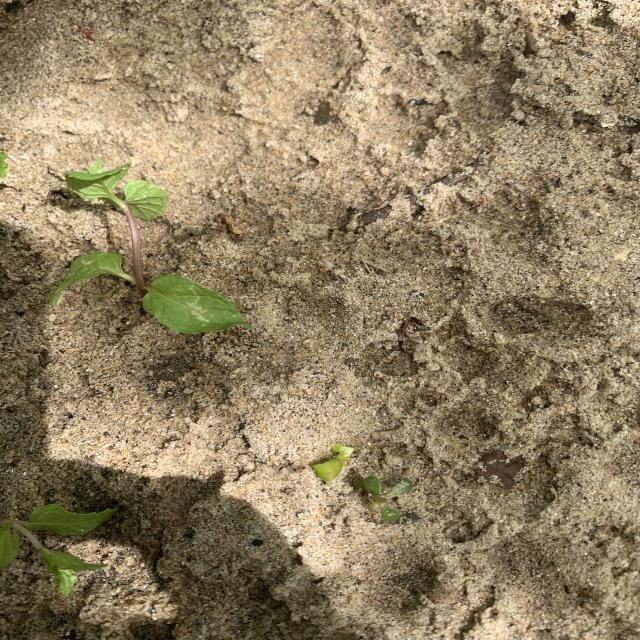crop: (50, 160, 249, 334), (0, 504, 115, 595)
weed: (355, 476, 411, 520), (312, 445, 354, 481)
